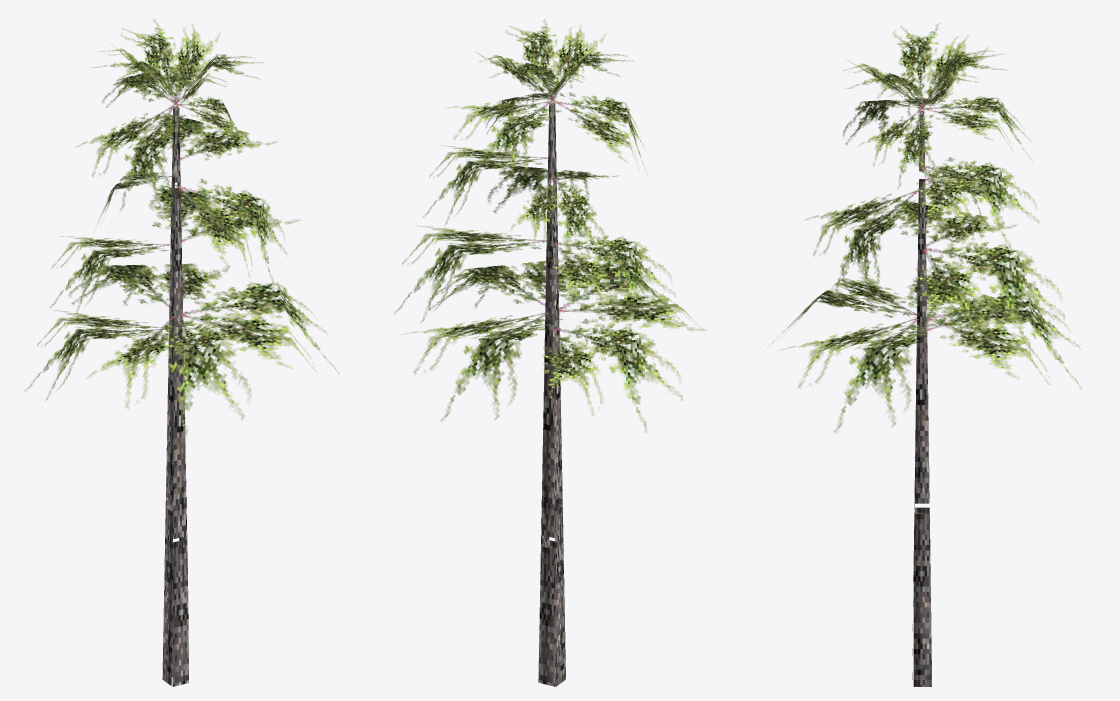
Rendered from Environment - Vegetation - Tree Burned Stump - PTPine02.glb.
3 views of the same model, side by side, from view 1: azimuth 30°, elevation 25°; view 2: azimuth 150°, elevation 25°; view 3: azimuth 270°, elevation 25° (orthographic).
Visible parts, largest first — view 1: PTPINE02; view 2: PTPINE02; view 3: PTPINE02.
Part boxes in pixels (bbox=[...]): PTPINE02: bbox=[25, 19, 339, 686]; PTPINE02: bbox=[394, 19, 704, 686]; PTPINE02: bbox=[772, 23, 1081, 686].
Size of the model in its own units: 25.74 by 52.07 by 27.34.
Materials: 1 (1 with a texture image).
